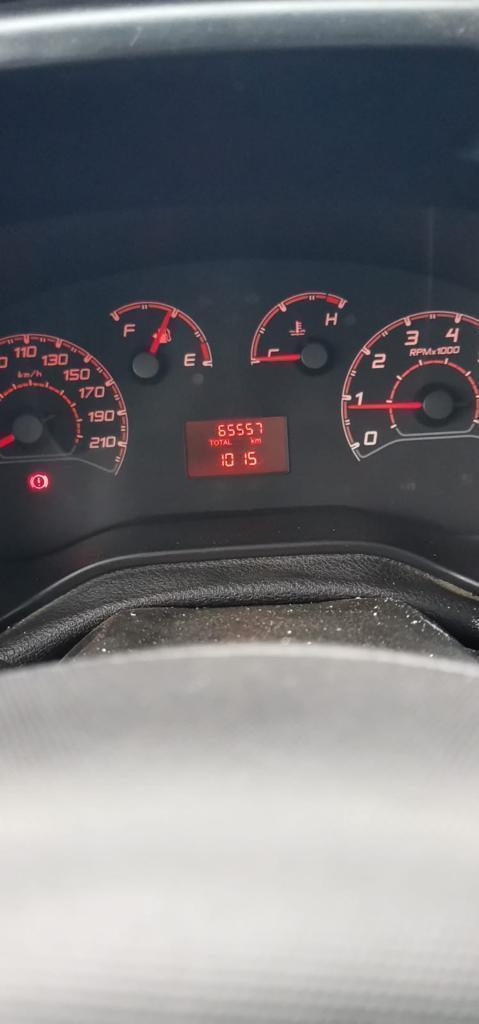0: (225, 452, 234, 467)
1: (243, 451, 247, 467), (221, 453, 224, 467)
5: (247, 451, 256, 465), (235, 422, 244, 436), (226, 423, 235, 437), (244, 422, 253, 435)
6: (217, 424, 225, 437)
7: (254, 421, 263, 433)
X: (254, 438, 262, 444), (208, 438, 213, 446), (249, 437, 254, 445), (213, 439, 218, 446), (227, 439, 232, 445), (223, 439, 227, 446), (219, 439, 223, 445)
odometer: (182, 410, 296, 482)
